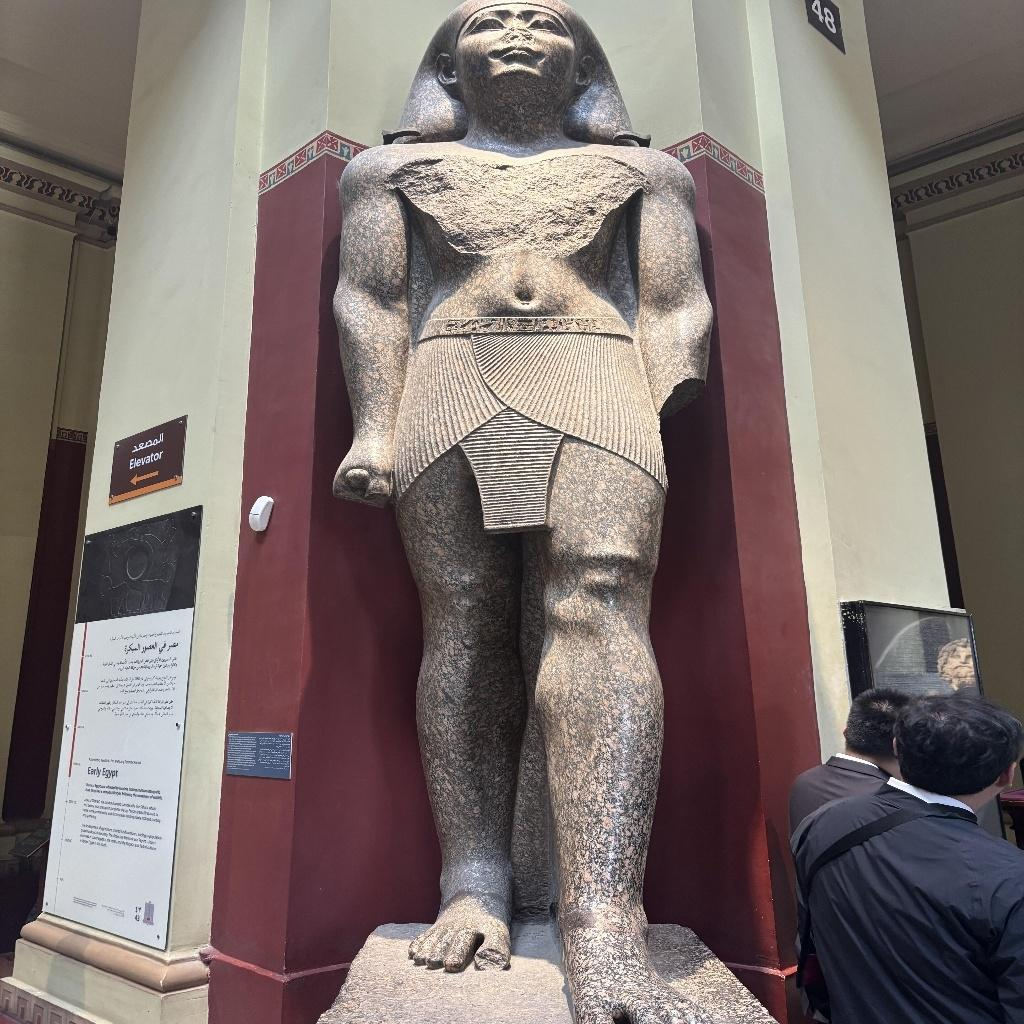Colossal Statue of Amenhotep III: (330, 0, 724, 1020)
